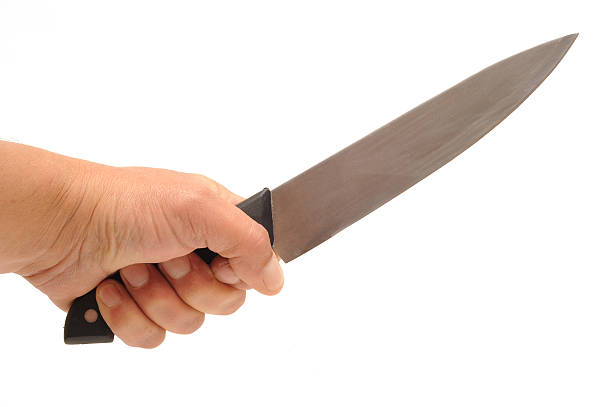knife: (62, 31, 579, 346)
